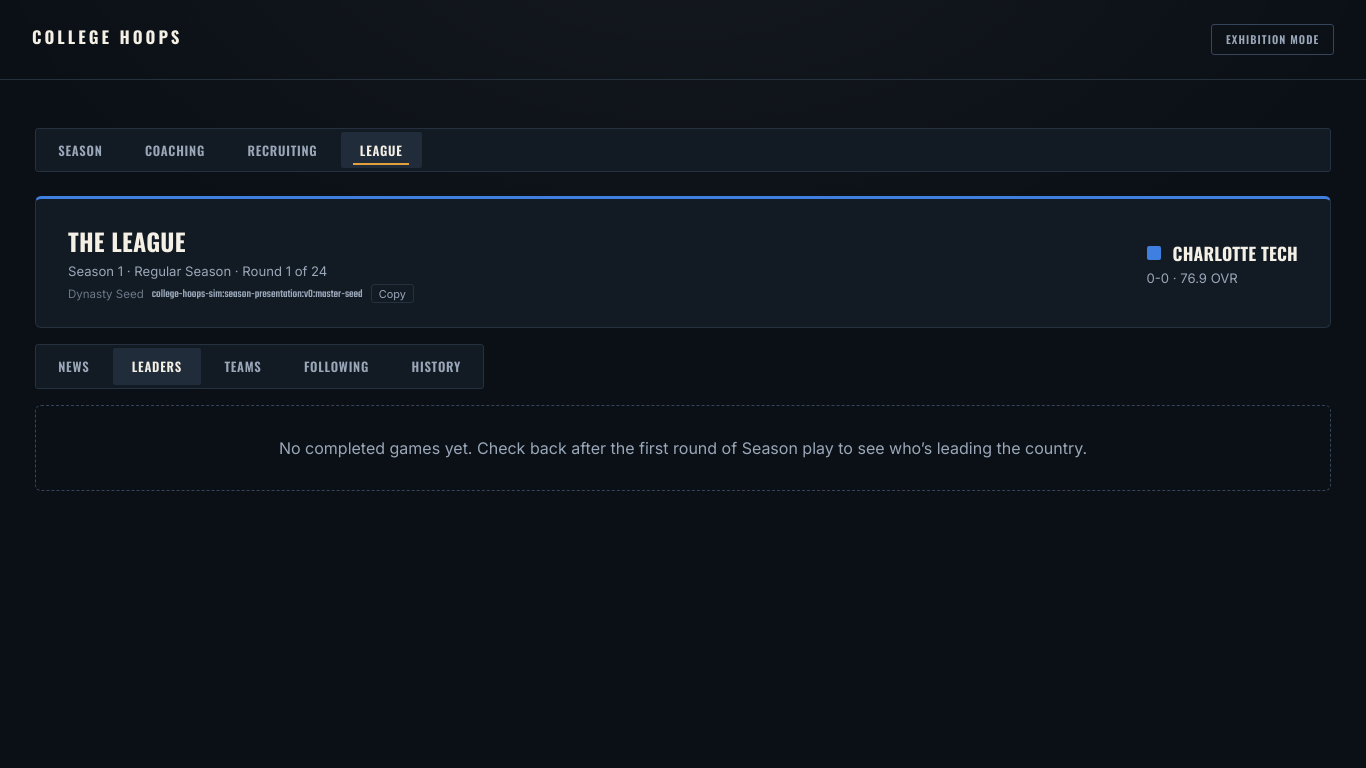
League History entry and index › opens from a representative League tab and shows the zero-history state
The image size is (1366, 768).
Click the button "History": (436, 367) x1=392 y1=348 x2=480 y2=385
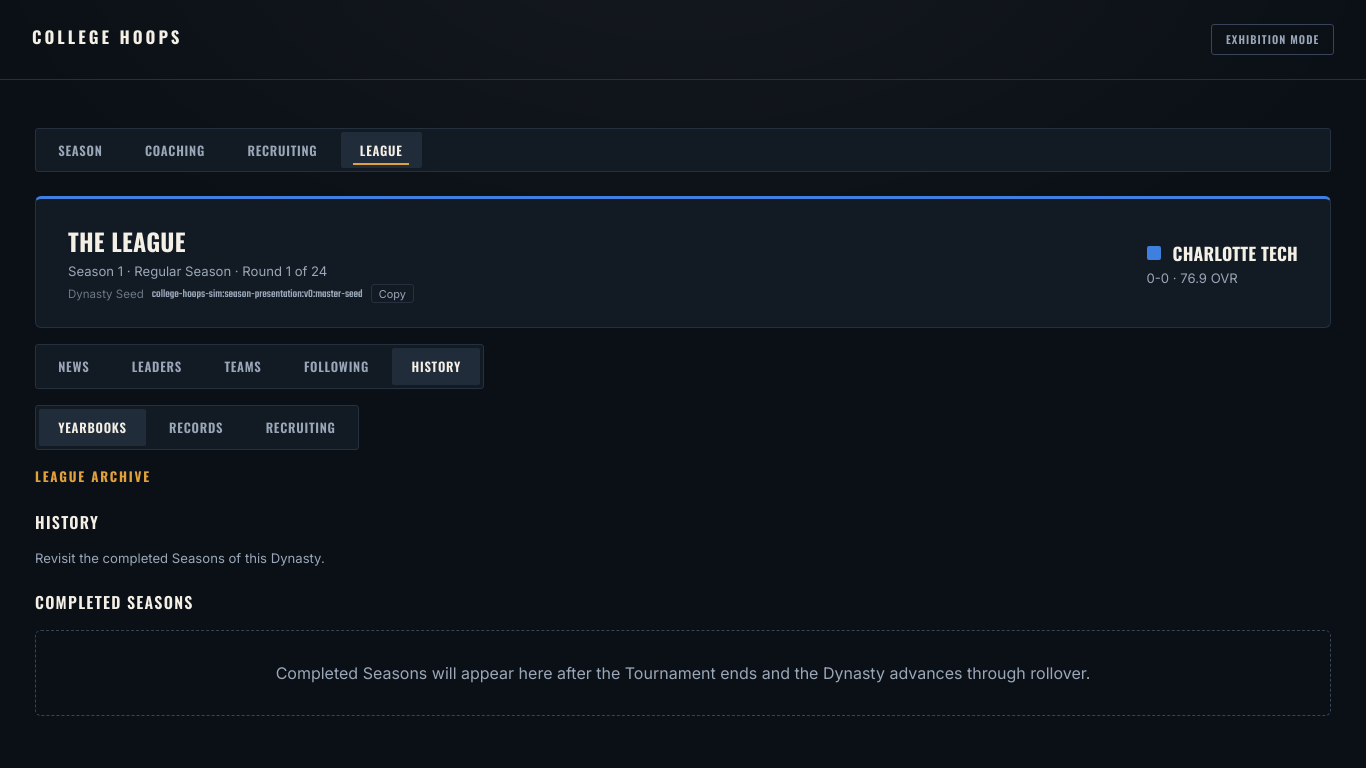
Result: the heading "History" is shown at x1=35 y1=510 x2=99 y2=534
Result: the text "Completed Seasons will appear here after" is shown at x1=276 y1=662 x2=1090 y2=682
